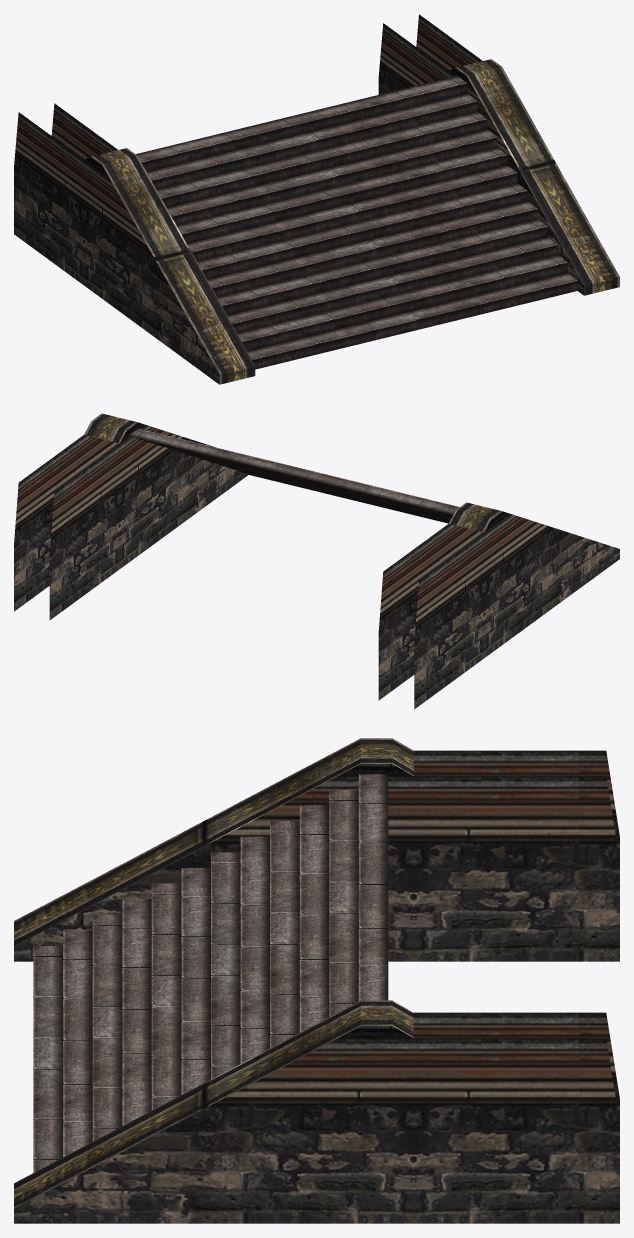
The model's file is auction_square02.FBX.
3 views of the same model, one above another, from view 1: azimuth 30°, elevation 25°; view 2: azimuth 150°, elevation 25°; view 3: azimuth 270°, elevation 25° (orthographic). The views are drawn at different scales.
Parts seen in each view (by area): view 1: 04; view 2: 04; view 3: 04.
Part boxes in pixels (box(x1,y1,x2,y2)): 04: box(14, 14, 619, 384); 04: box(14, 413, 619, 709); 04: box(14, 738, 619, 1223).
Size of the model in its own units: 698 by 223 by 621.
3 materials, 3 textured.
